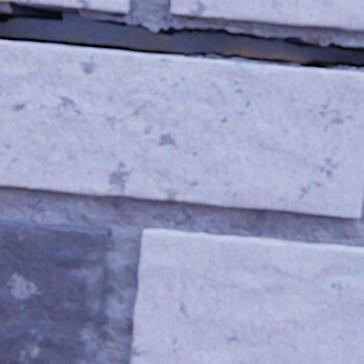brick: (0, 41, 363, 216), (131, 228, 363, 363), (0, 219, 109, 363), (171, 0, 363, 30), (0, 0, 129, 13)
crack: (0, 2, 363, 70)
